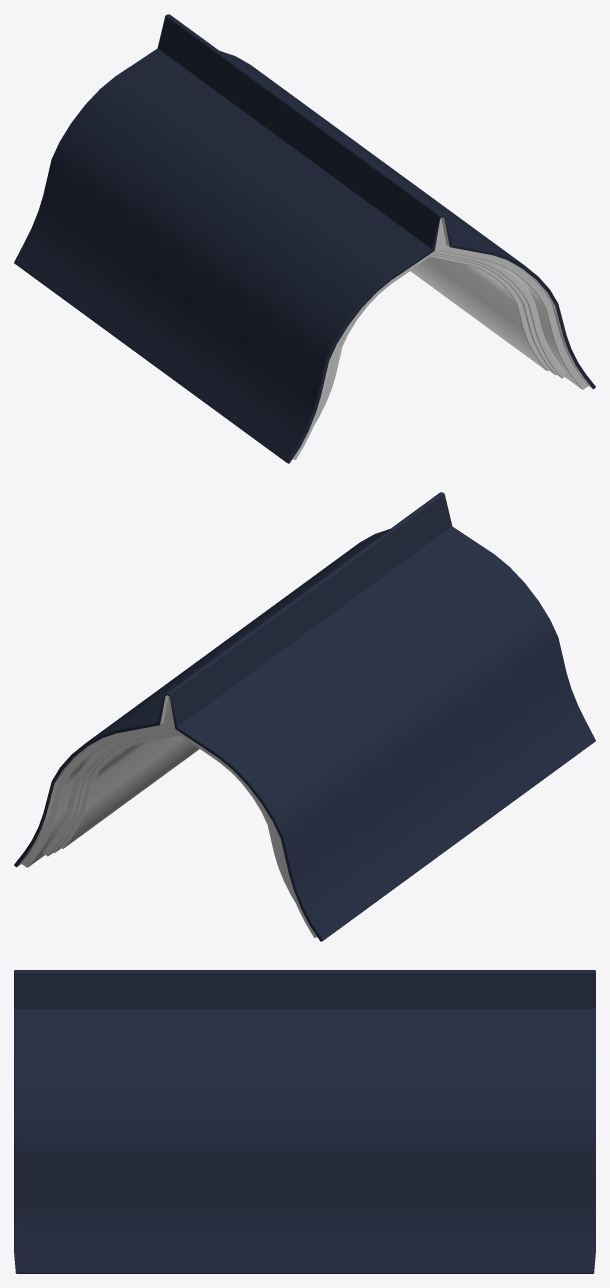
The model's file is FM_White_H_Roof_001.fbx.
3 views of the same model, one above another, from view 1: azimuth 30°, elevation 25°; view 2: azimuth 150°, elevation 25°; view 3: azimuth 270°, elevation 25° (orthographic). The views are drawn at different scales.
Visible parts, largest first — view 1: FM_White_H_Roof_001; view 2: FM_White_H_Roof_001; view 3: FM_White_H_Roof_001.
Boxes of the visible parts, x1,y1,x2,y2 form: FM_White_H_Roof_001: [14, 14, 595, 463]; FM_White_H_Roof_001: [14, 492, 595, 941]; FM_White_H_Roof_001: [14, 970, 595, 1273].
Bounding box in the file's own units: 4.27 × 2.8 × 6.58.
